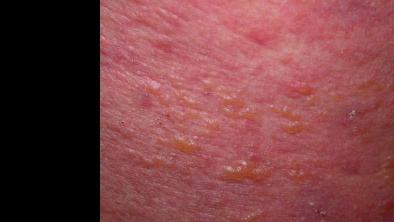SJS-TEN: (100, 30, 394, 222)
